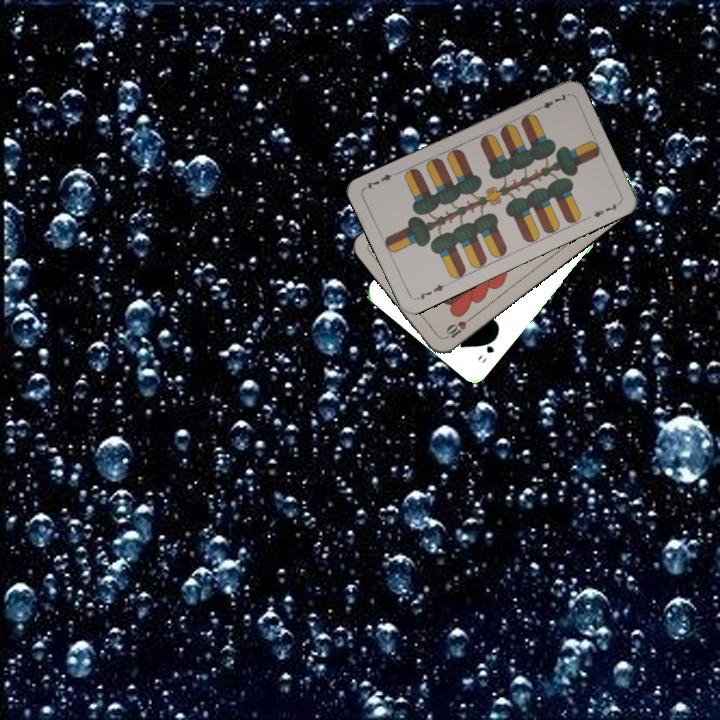E7: (412, 279, 451, 302), (532, 90, 570, 113)
GO: (473, 332, 499, 366)
H10: (440, 313, 475, 342)
